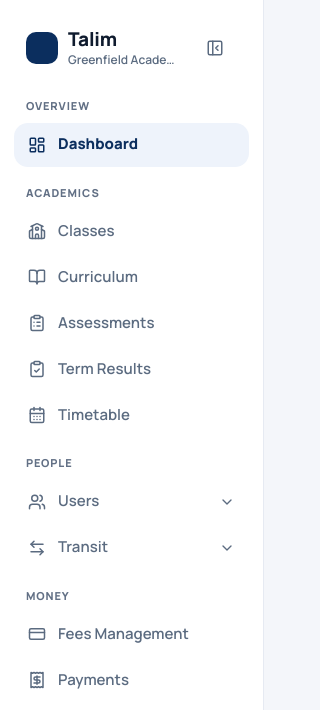
Test: sidebar groups › marks a group's button expanded and lists its pages
Click the button "Users".
click(132, 502)  # box [14,480,249,524]
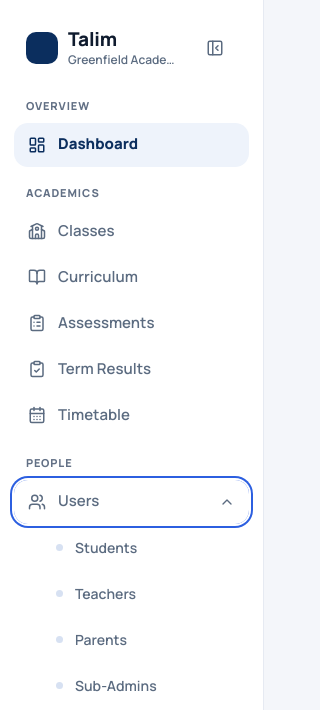
Now the link "Students" is shown, box [56,538,137,556]
Now the button "Users" is expanded, box [14,480,249,524]
